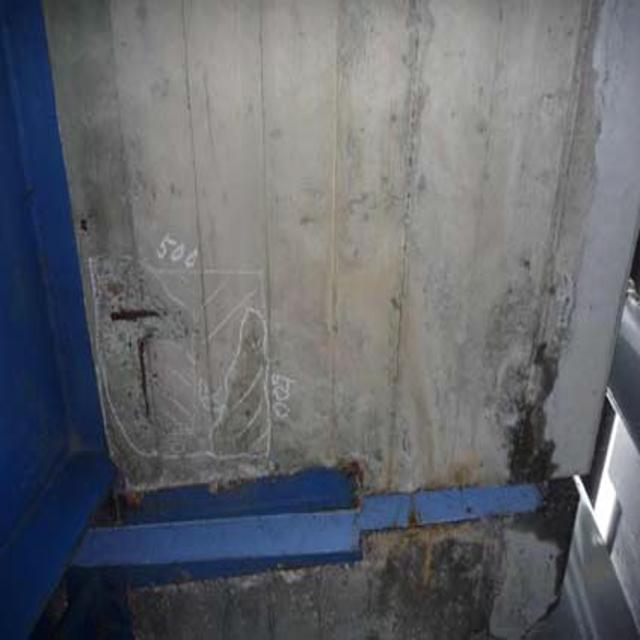spalling: (80, 244, 204, 479)
